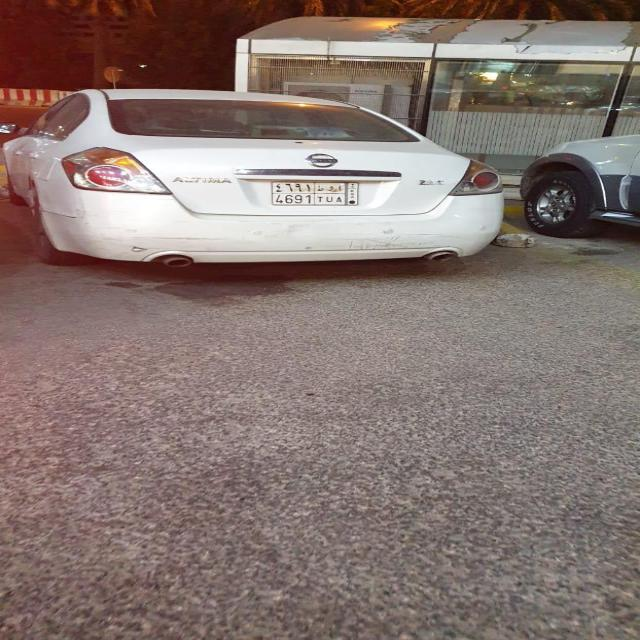license_plate: (271, 181, 358, 205)
